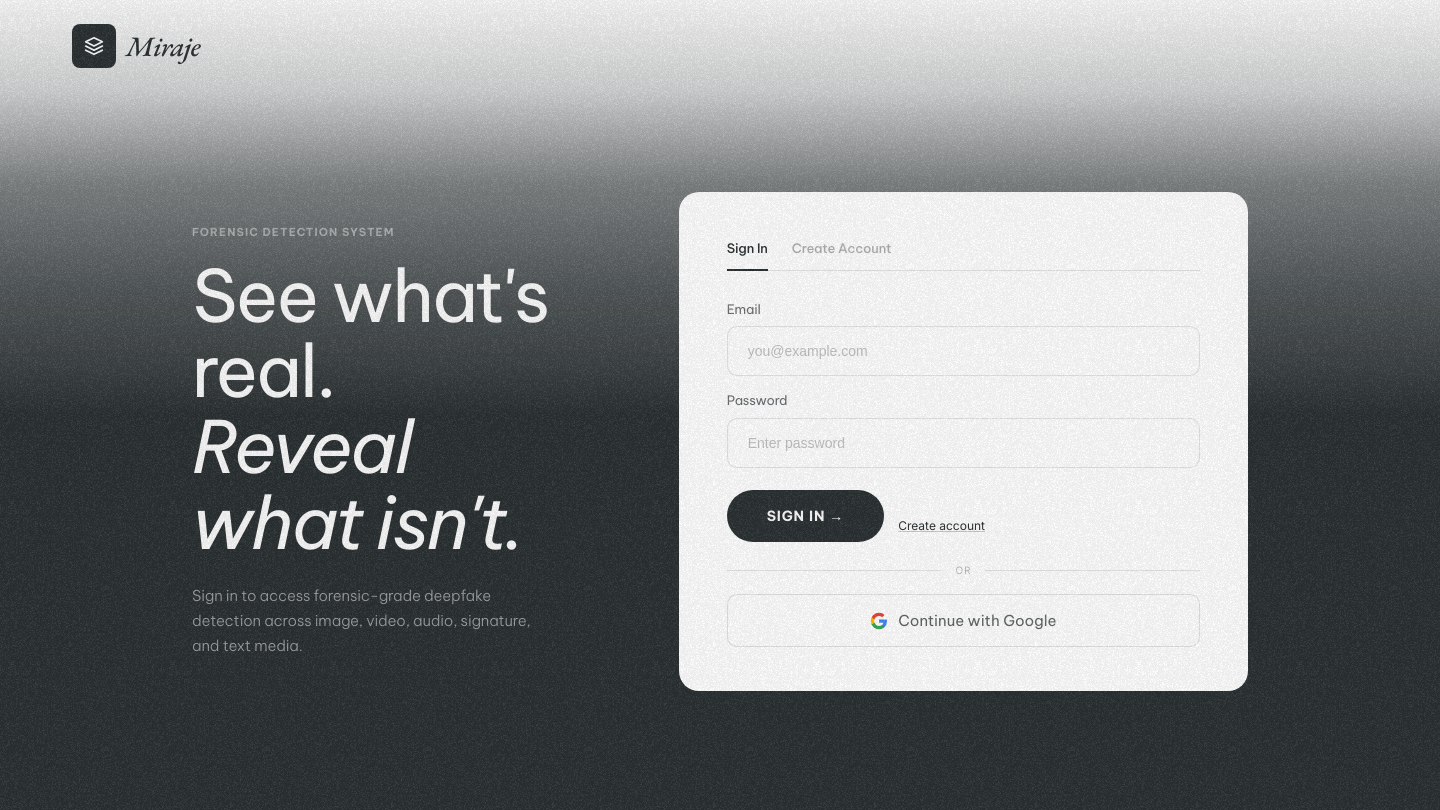
Test: AuthPage › shows error when Google sign-in is cancelled
The width and height of the screenshot is (1440, 810).
Click the button "Continue with Google" at (963, 621), box [727,594,1200,647]
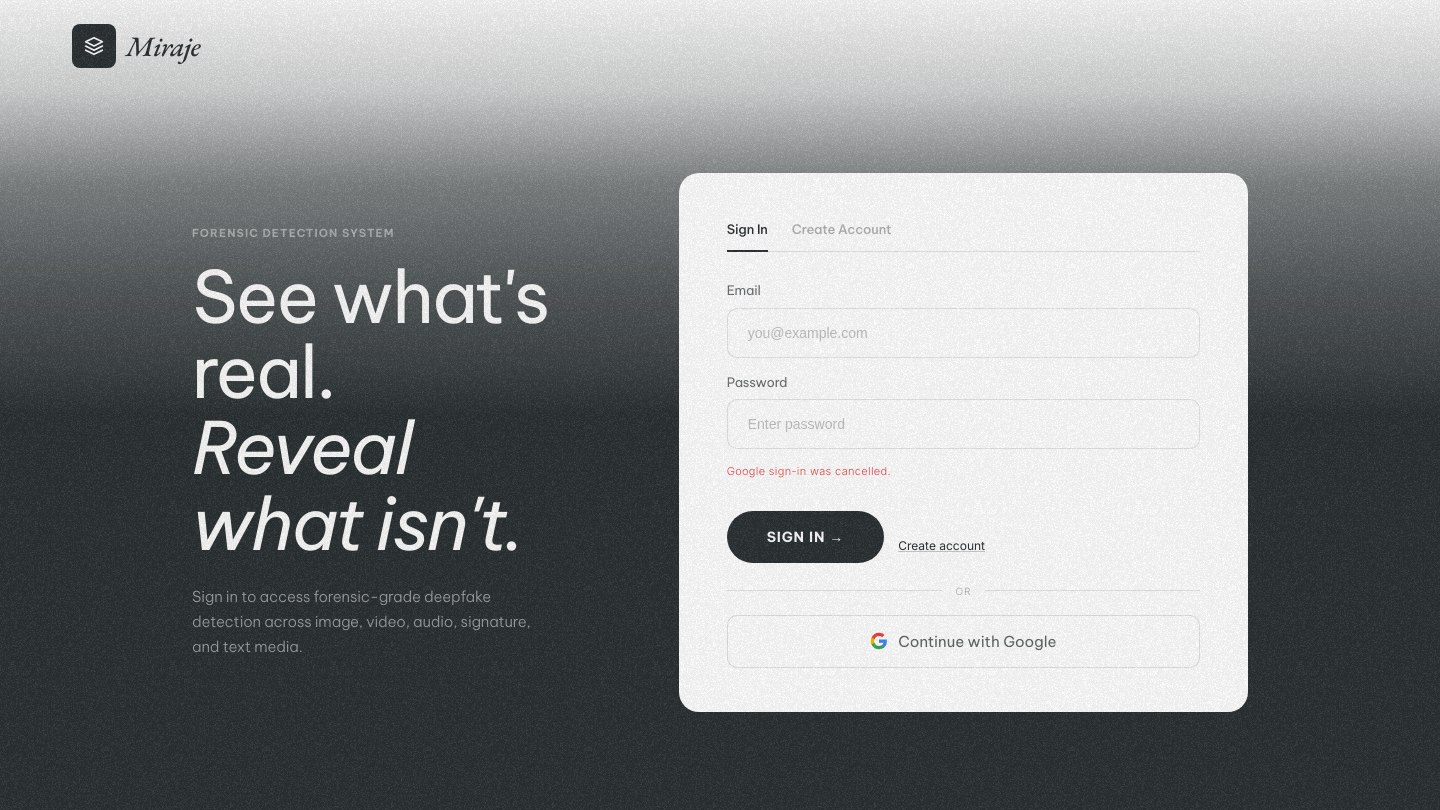
expect the text "Google sign-in was cancelled." is shown: met, box [727,464,891,478]
